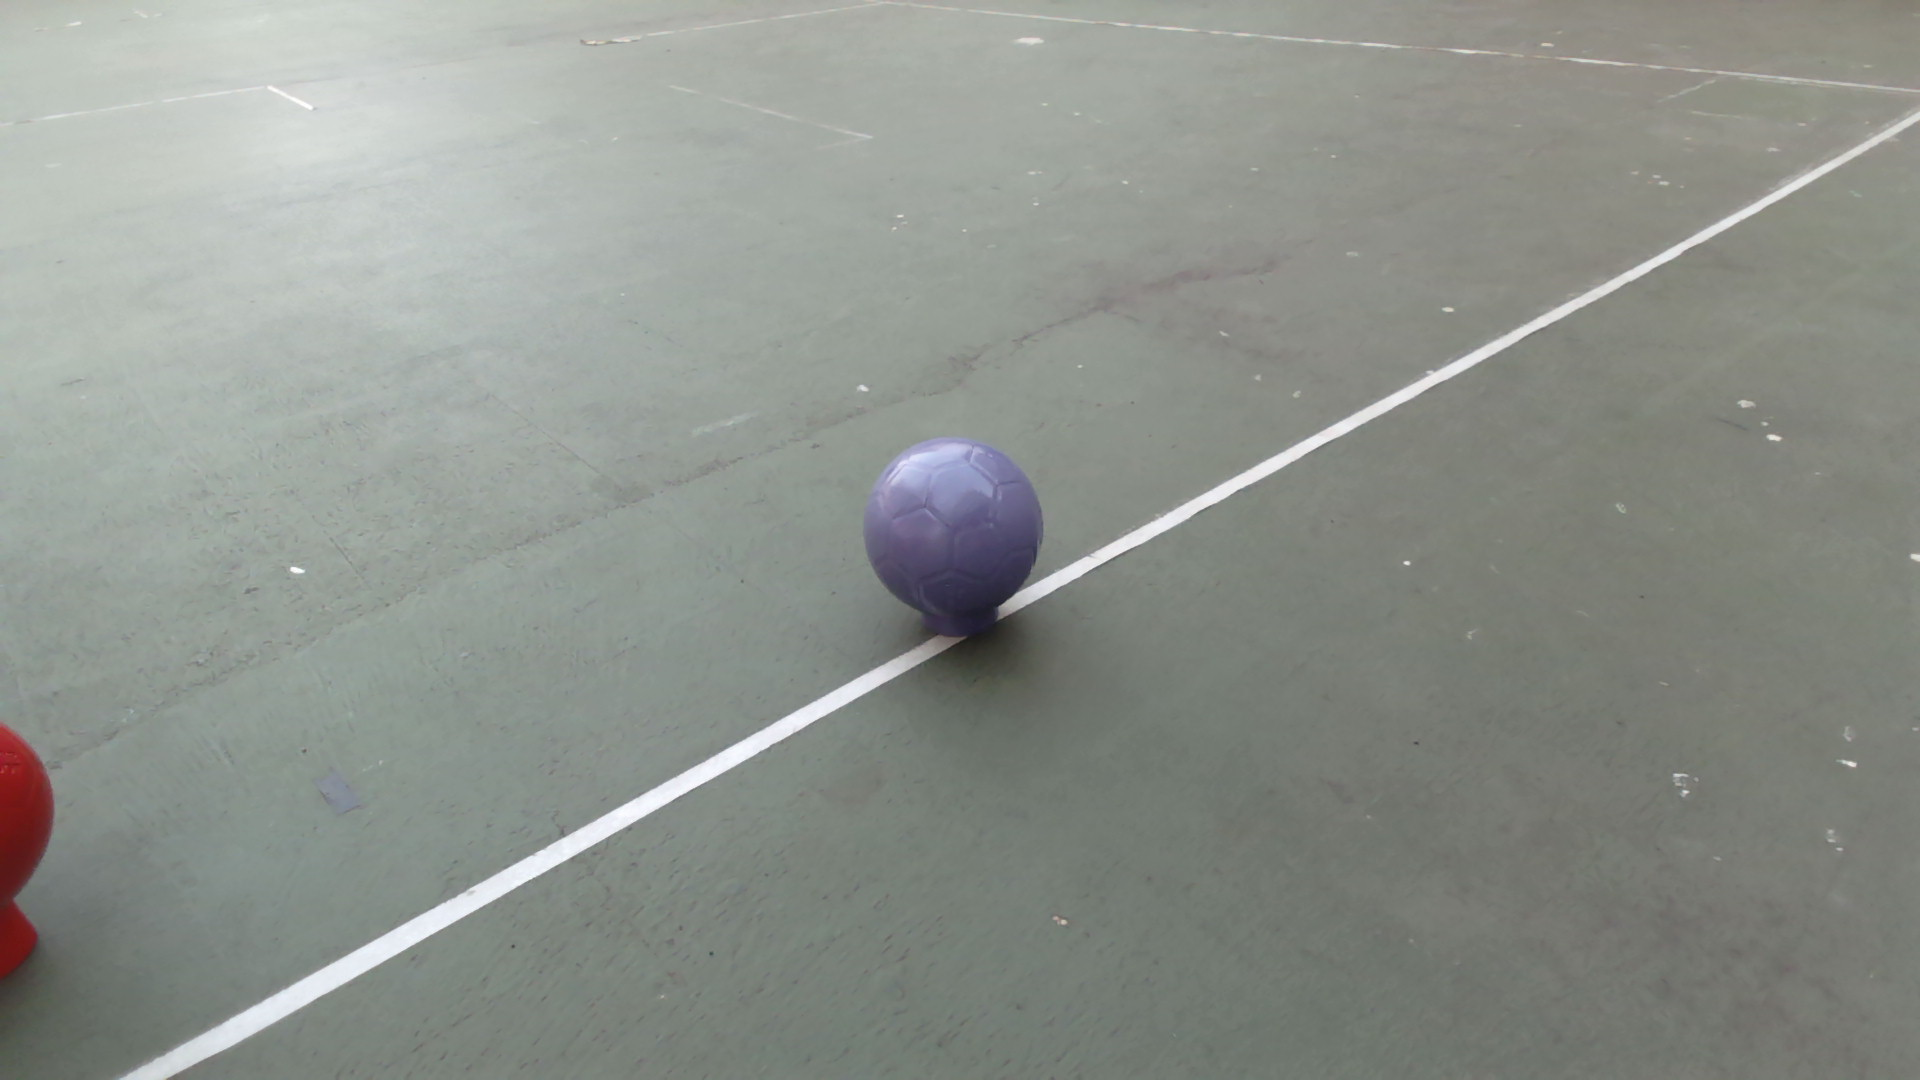Purple ball: (860, 435, 1046, 620)
Red ball: (1, 709, 59, 909)
